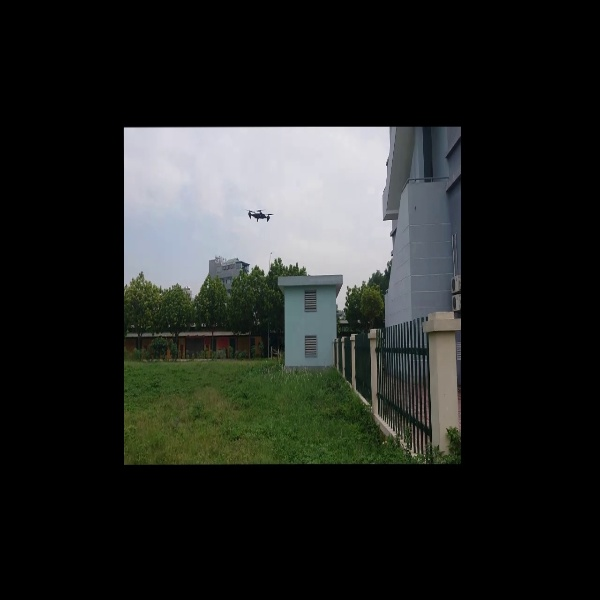drone: (243, 204, 274, 224)
